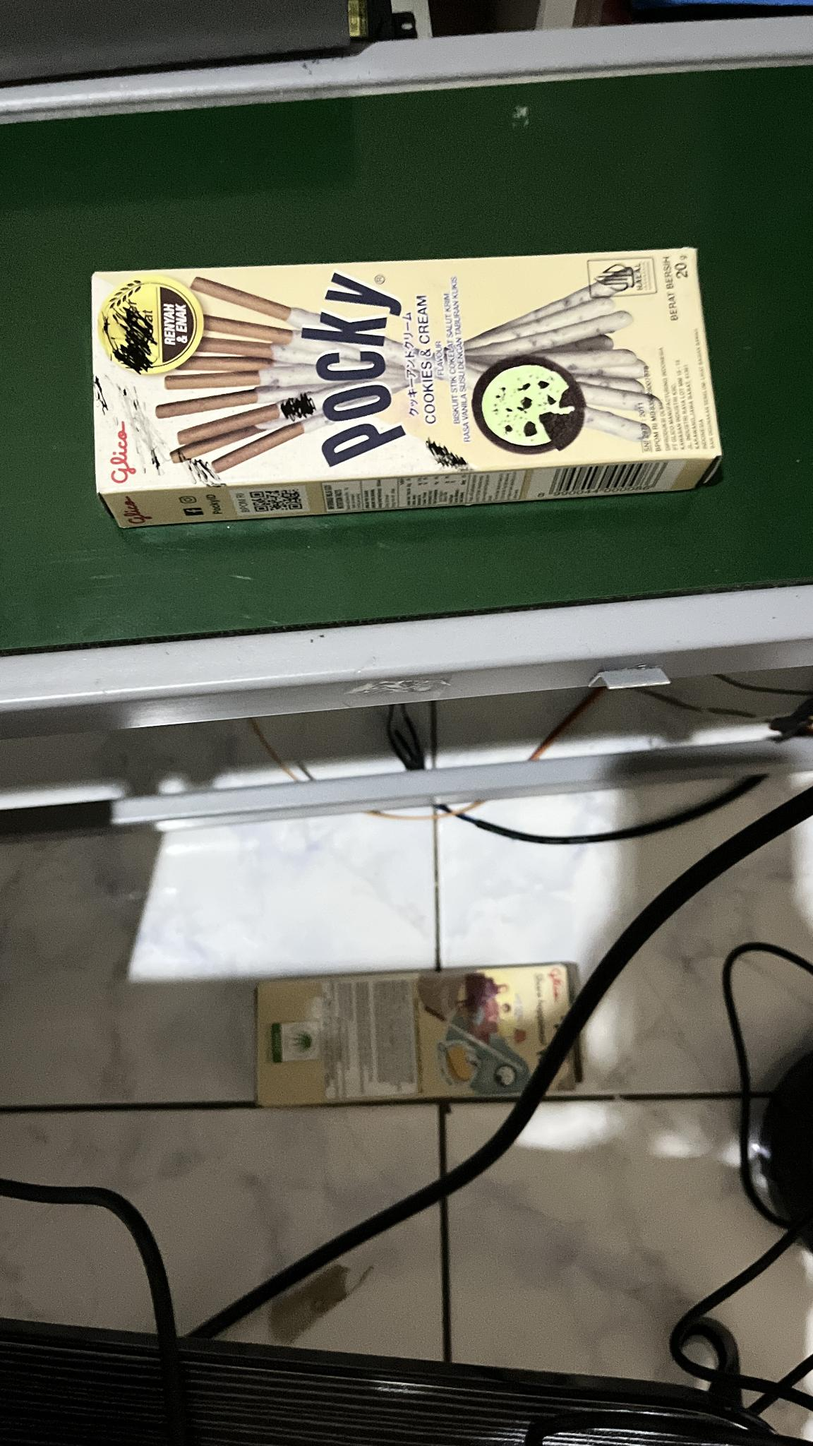Kertas: (86, 240, 721, 506)
